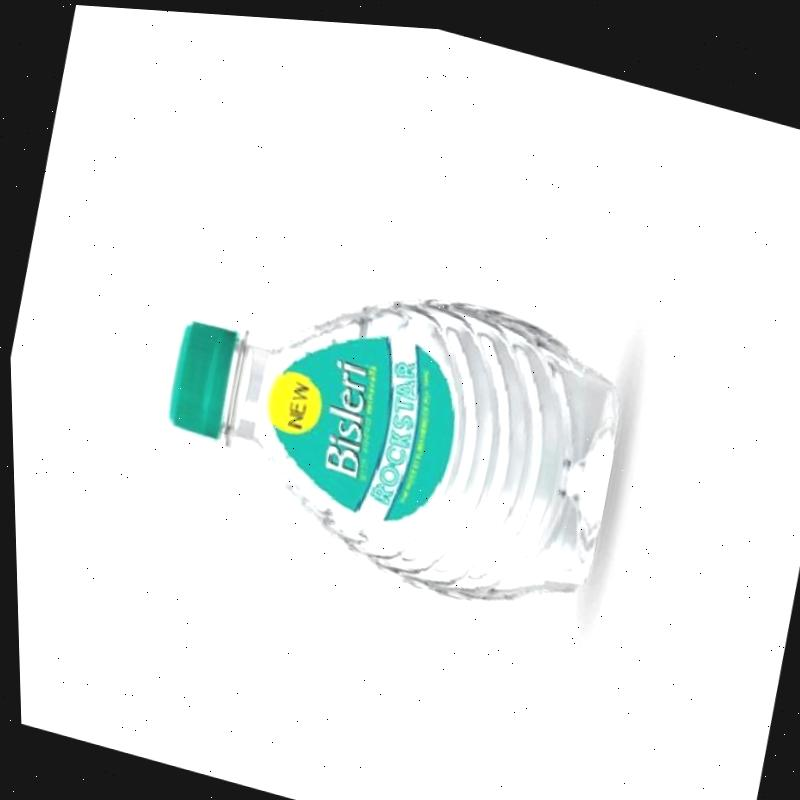botella: (136, 223, 641, 625)
